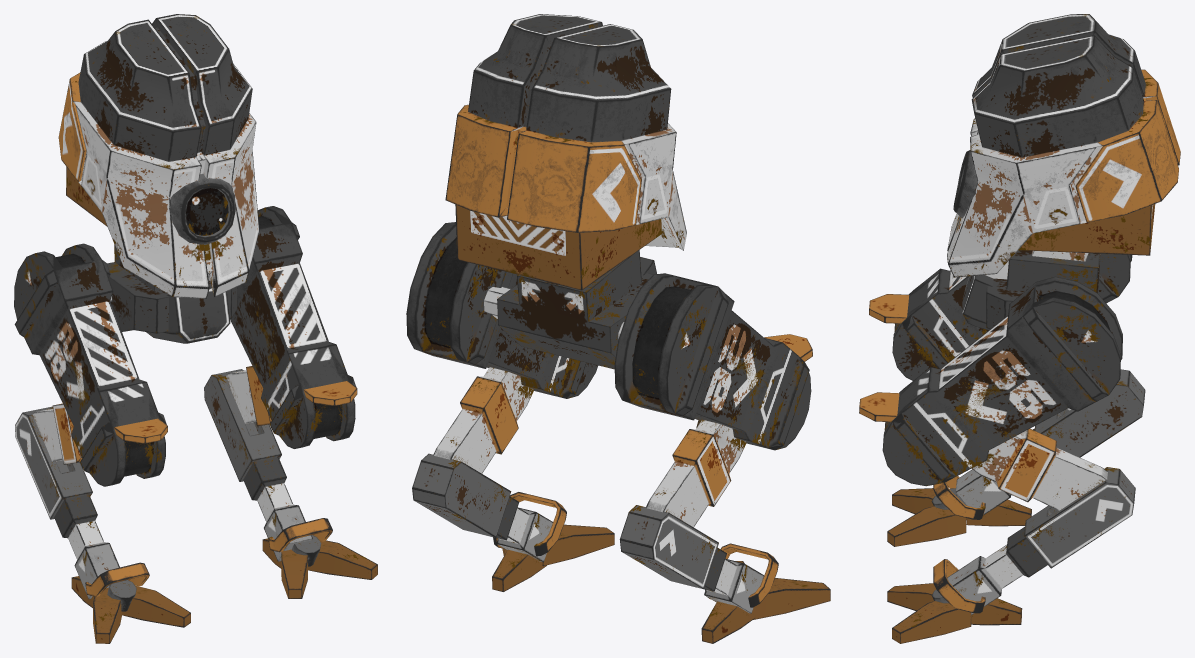
File: leela.glb
3 renders of one model, left to right at view 1: azimuth 30°, elevation 25°; view 2: azimuth 150°, elevation 25°; view 3: azimuth 270°, elevation 25°, orthographic. The views are drawn at different scales.
Parts seen in each view (by area): view 1: Leela; view 2: Leela; view 3: Leela.
Part boxes in pixels (x1=…): Leela: x1=14, y1=14, x2=377, y2=643; Leela: x1=406, y1=14, x2=830, y2=643; Leela: x1=859, y1=14, x2=1180, y2=643.
Size of the model in its own units: 2.96 by 5.26 by 2.8.
Materials: 1 (1 with a texture image).
